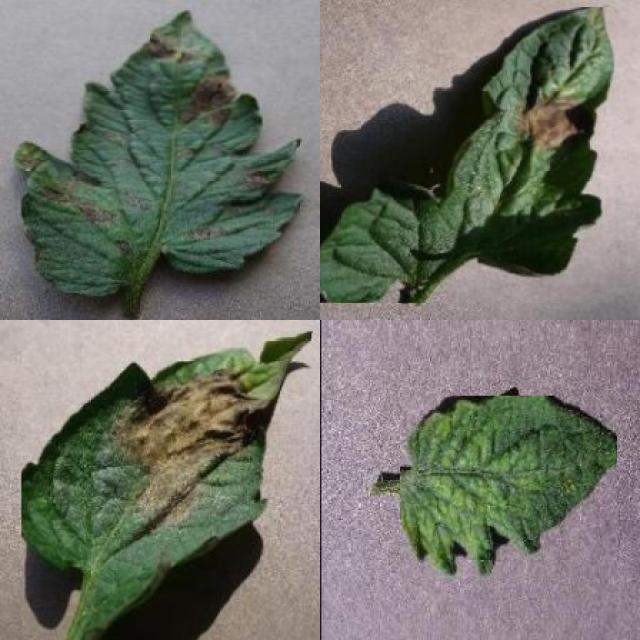Early Blight: (14, 10, 300, 293)
Late Blight: (21, 330, 312, 640), (320, 7, 614, 303)
Mosaic Virus: (400, 396, 617, 578)
